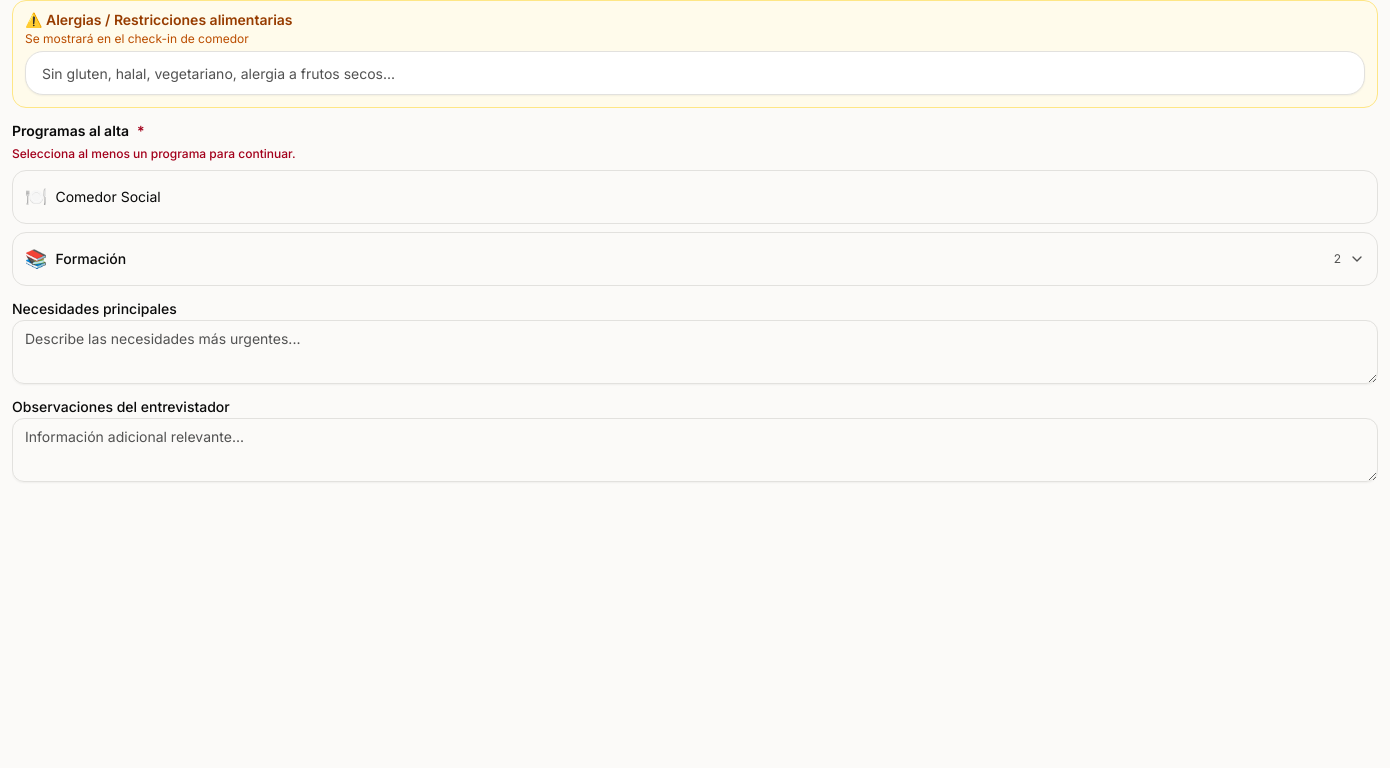
Test case: Step5Social — árbol de programas › agrupa los cursos dentro del desplegable de Formación
The image size is (1390, 768).
Click the button "📚 Formación 2". click: click(91, 258)
box: [13,233,1377,285]
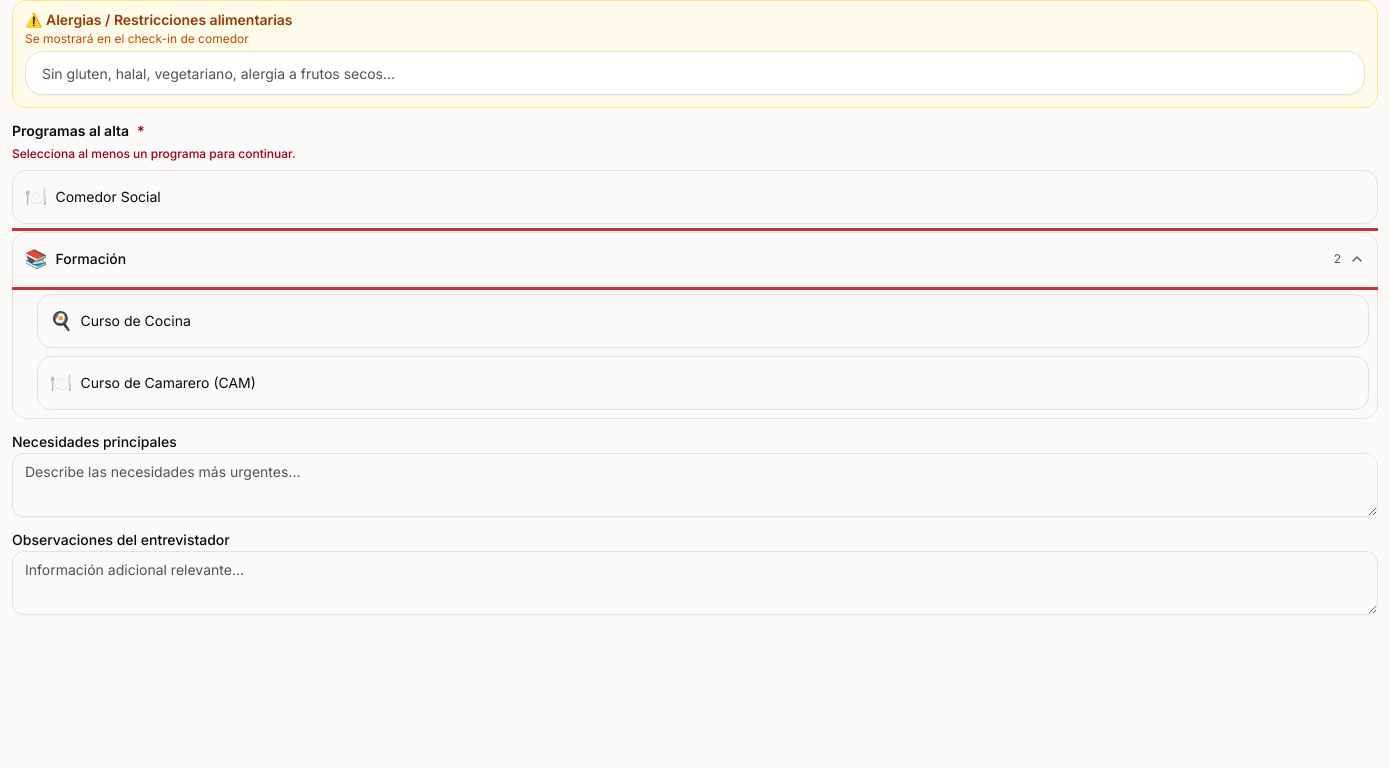
Now the button "🍳 Curso de Cocina" is shown, box [37,294,1369,348]
Now the button "🍽️ Curso de Camarero (CAM)" is shown, box [37,356,1369,410]
